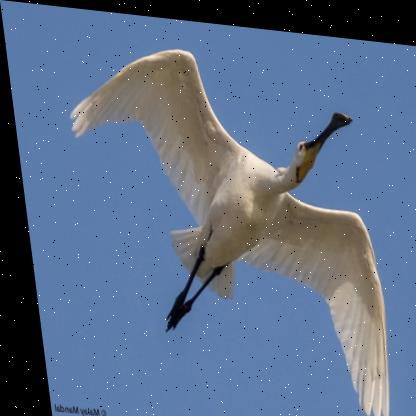Burung: (59, 34, 390, 415)
